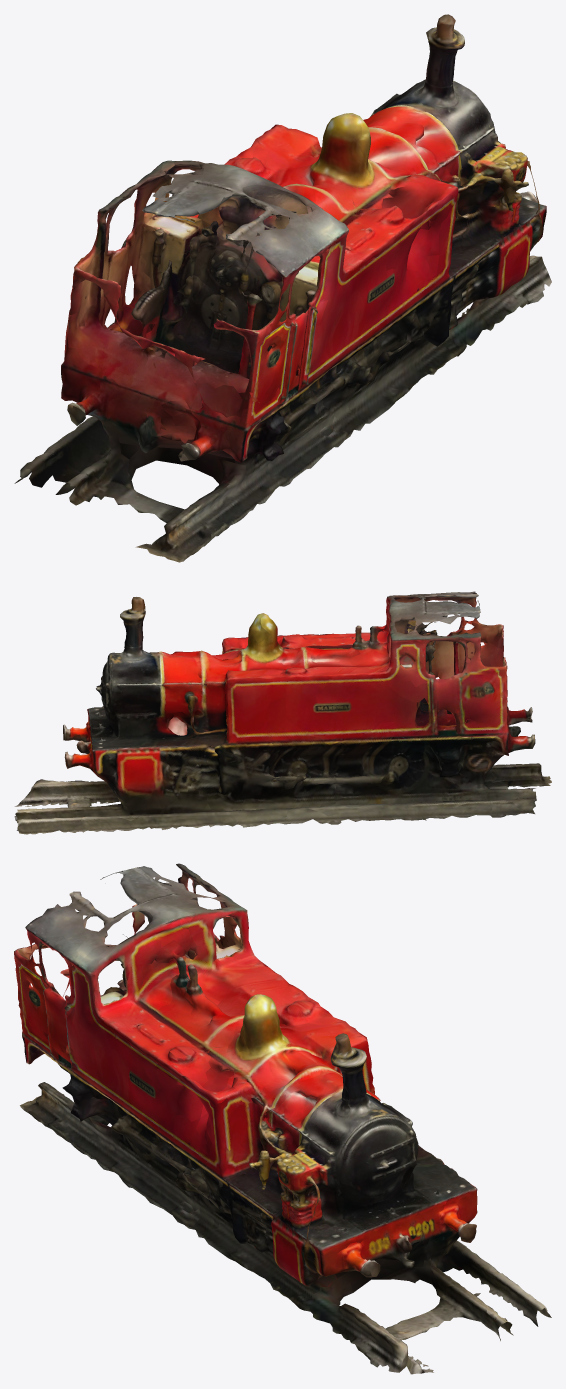
File: mini_locomotora_vallparadis.glb
3 views of the same model, one above another, from view 1: azimuth 30°, elevation 25°; view 2: azimuth 150°, elevation 25°; view 3: azimuth 270°, elevation 25° (orthographic). The views are drawn at different scales.
Visible parts, largest first — view 1: Object_2; view 2: Object_2; view 3: Object_2.
Boxes of the visible parts, x1,y1,x2,y2 form: Object_2: [14, 14, 551, 562]; Object_2: [14, 591, 551, 834]; Object_2: [14, 863, 551, 1374].
Size of the model in its own units: 0.9108 by 0.4253 by 0.7312.
1 material, 1 textured.
